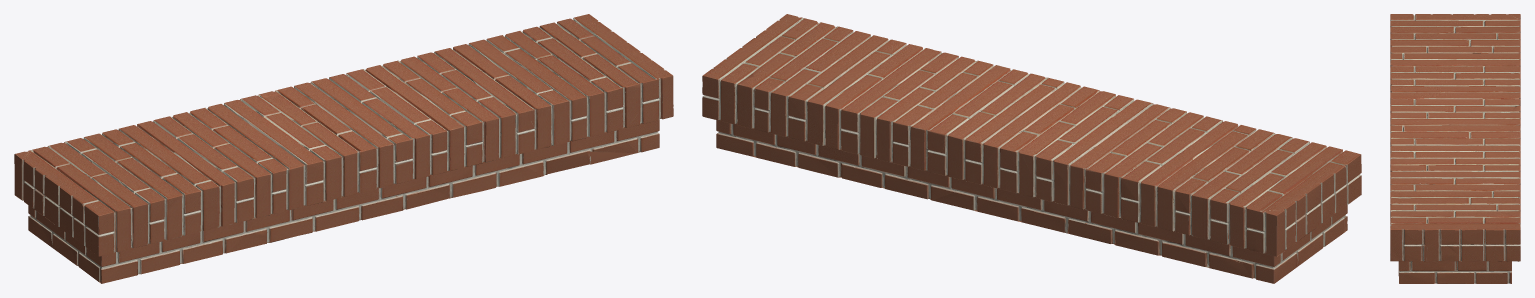
Rendered from familok_string_course.glb.
The picture shows the model from 3 angles, left to right: view 1: azimuth 30°, elevation 25°; view 2: azimuth 150°, elevation 25°; view 3: azimuth 270°, elevation 25°; orthographic projection. The views are drawn at different scales.
Bounding box in the file's own units: 1.9 × 0.2367 × 0.4855.
Materials: 1 (1 with a texture image).
